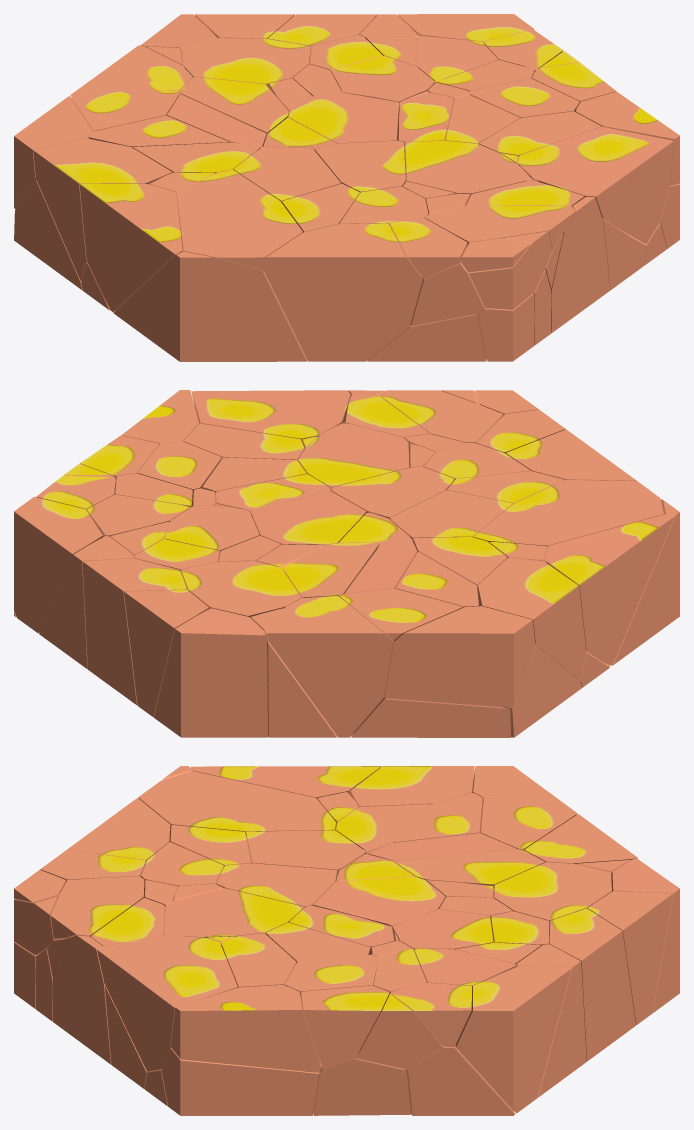
The model's file is Hex90.fbx.
3 renders of one model, top to bottom at view 1: azimuth 30°, elevation 25°; view 2: azimuth 150°, elevation 25°; view 3: azimuth 270°, elevation 25°, orthographic.
Visible parts, largest first — view 1: Hex1_cell.076, Hex1_cell.027, Hex1_cell.077, Hex1_cell, Hex1_cell.056, Hex1_cell.009, Hex1_cell.040, Hex1_cell.045, Hex1_cell.038, Hex1_cell.015, Hex1_cell.043, Hex1_cell.068 (+44 smaller); view 2: Hex1_cell.048, Hex1_cell.052, Hex1_cell.075, Hex1_cell, Hex1_cell.056, Hex1_cell.004, Hex1_cell.009, Hex1_cell.044, Hex1_cell.077, Hex1_cell.057, Hex1_cell.089, Hex1_cell.045 (+37 smaller); view 3: Hex1_cell.044, Hex1_cell.077, Hex1_cell.084, Hex1_cell.056, Hex1_cell.058, Hex1_cell.004, Hex1_cell.057, Hex1_cell.040, Hex1_cell.045, Hex1_cell.028, Hex1_cell.038, Hex1_cell.082 (+43 smaller).
Boxes of the visible parts, x1,y1,x2,y2 form: Hex1_cell.076: (263,223,422,361); Hex1_cell.027: (113,251,307,361); Hex1_cell.077: (518,126,674,244); Hex1_cell: (79,184,183,312); Hex1_cell.056: (177,169,302,271); Hex1_cell.009: (33,138,172,280); Hex1_cell.040: (551,196,609,332); Hex1_cell.045: (405,140,532,195); Hex1_cell.038: (183,38,310,85); Hex1_cell.015: (288,92,398,143); Hex1_cell.043: (425,205,575,248); Hex1_cell.068: (367,314,486,361); Hex1_cell.048: (154,608,267,737); Hex1_cell.052: (385,606,535,707); Hex1_cell.075: (265,596,393,737); Hex1_cell: (545,514,674,665); Hex1_cell.056: (473,480,663,546); Hex1_cell.004: (82,558,187,705); Hex1_cell.009: (477,557,586,680); Hex1_cell.044: (14,496,102,632); Hex1_cell.077: (191,390,350,439); Hex1_cell.057: (124,590,208,716); Hex1_cell.089: (351,698,511,737); Hex1_cell.045: (298,423,409,491); Hex1_cell.044: (455,966,571,1113); Hex1_cell.077: (97,935,237,1071); Hex1_cell.084: (170,985,321,1072); Hex1_cell.056: (138,771,335,835); Hex1_cell.058: (161,1048,321,1115); Hex1_cell.004: (549,908,635,1061); Hex1_cell.057: (587,891,672,1024); Hex1_cell.040: (52,935,111,1064); Hex1_cell.045: (164,888,304,937); Hex1_cell.028: (405,1044,515,1115); Hex1_cell.038: (494,862,611,927); Hex1_cell.082: (301,985,389,1067).
Size of the model in its own units: 1 by 0.2003 by 1.15.
Materials: 1 (1 with a texture image).
